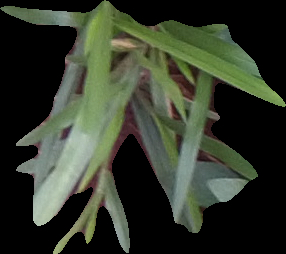grass: (2, 1, 284, 252)
